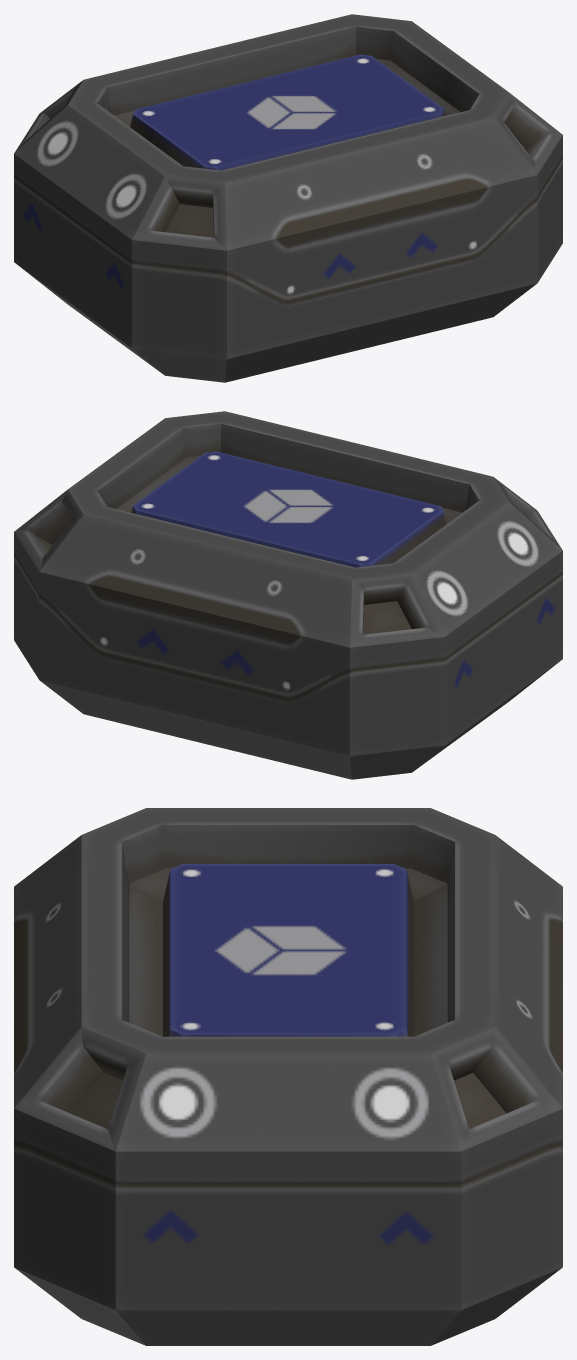
The model's file is SM_Box_small.FBX.
The picture shows the model from 3 angles, top to bottom: view 1: azimuth 30°, elevation 25°; view 2: azimuth 150°, elevation 25°; view 3: azimuth 270°, elevation 25°; orthographic projection. The views are drawn at different scales.
Visible parts, largest first — view 1: SM_Box_small; view 2: SM_Box_small; view 3: SM_Box_small.
Boxes of the visible parts, box(x1,y1,x2,y2) form: SM_Box_small: box(14, 14, 562, 382); SM_Box_small: box(14, 411, 562, 779); SM_Box_small: box(14, 808, 562, 1345).
Bounding box in the file's own units: 54.92 × 24.3 × 41.37.
1 material, 1 textured.
